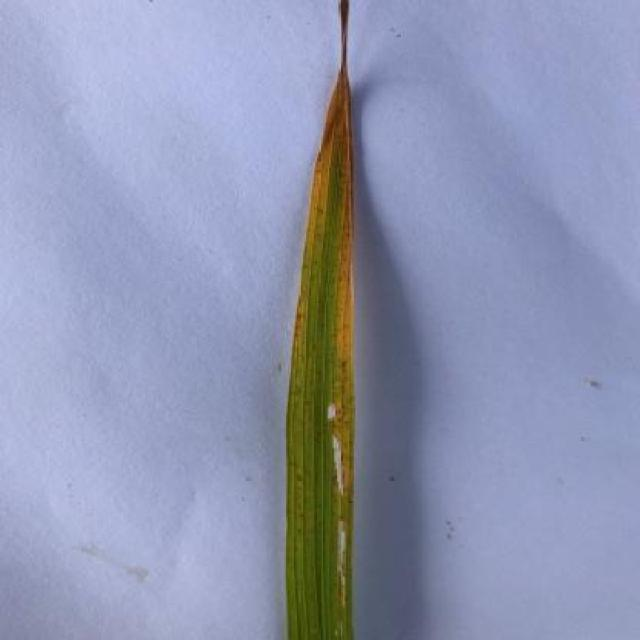Rice False Smut: (287, 60, 355, 640)
